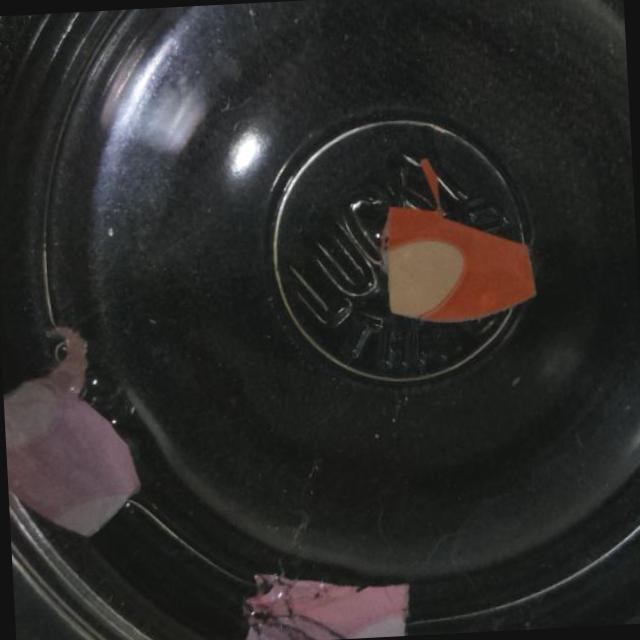fiber: (0, 320, 145, 550), (376, 150, 542, 332), (232, 563, 409, 640)
